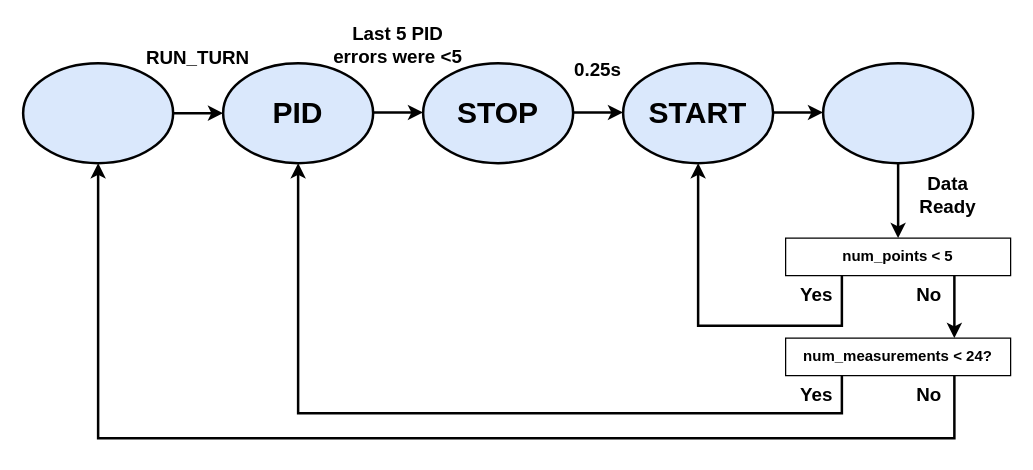
The diagram is 1033 pixels wide and 470 high, and some of its shapes have lost their labels. Here are the shapes that lost their labels. From the top down, the centre of each, then its label:
At pixel 97 112: "IDLE".
At pixel 897 112: "WAIT".
